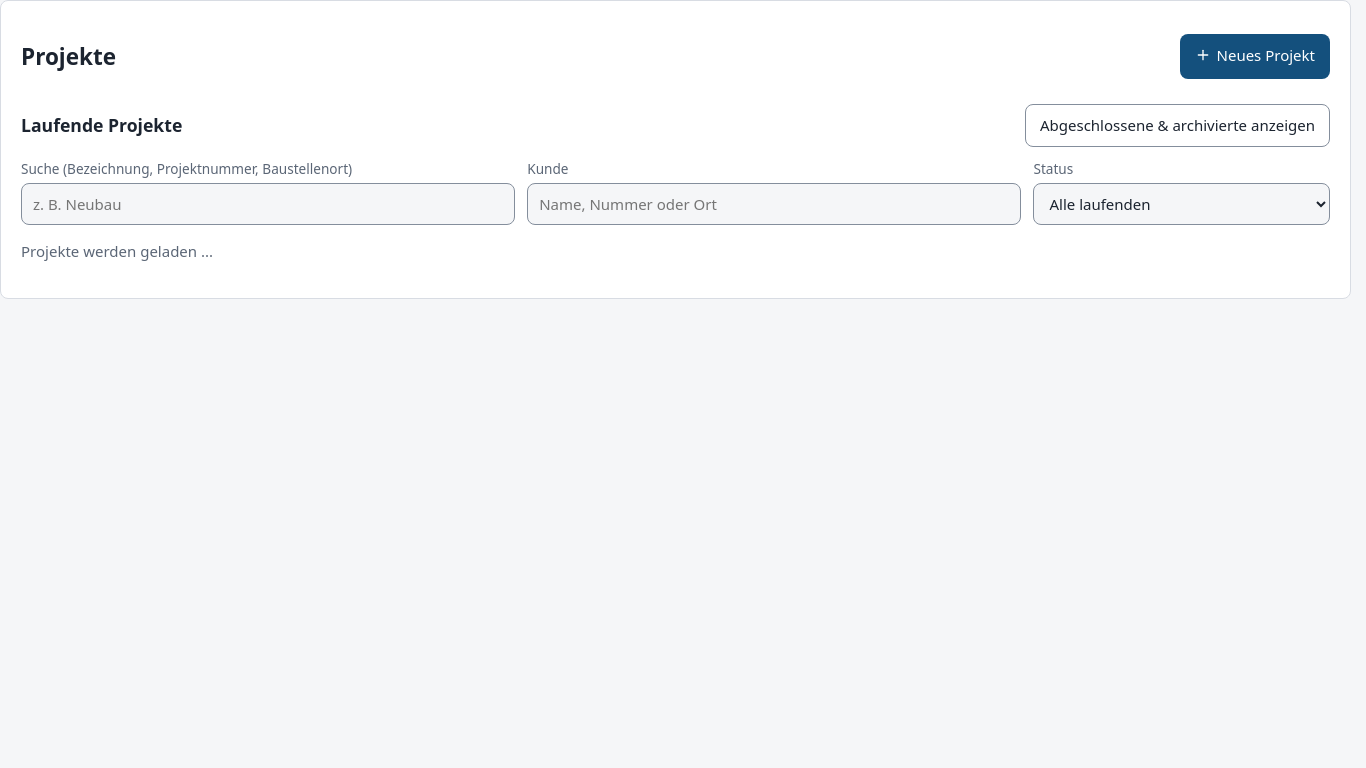
Test: Projektübersicht › bietet im Anlagedialog alle gelisteten Kunden an
Click the button "Neues Projekt" at (1255, 57), box [1180,34,1330,79]
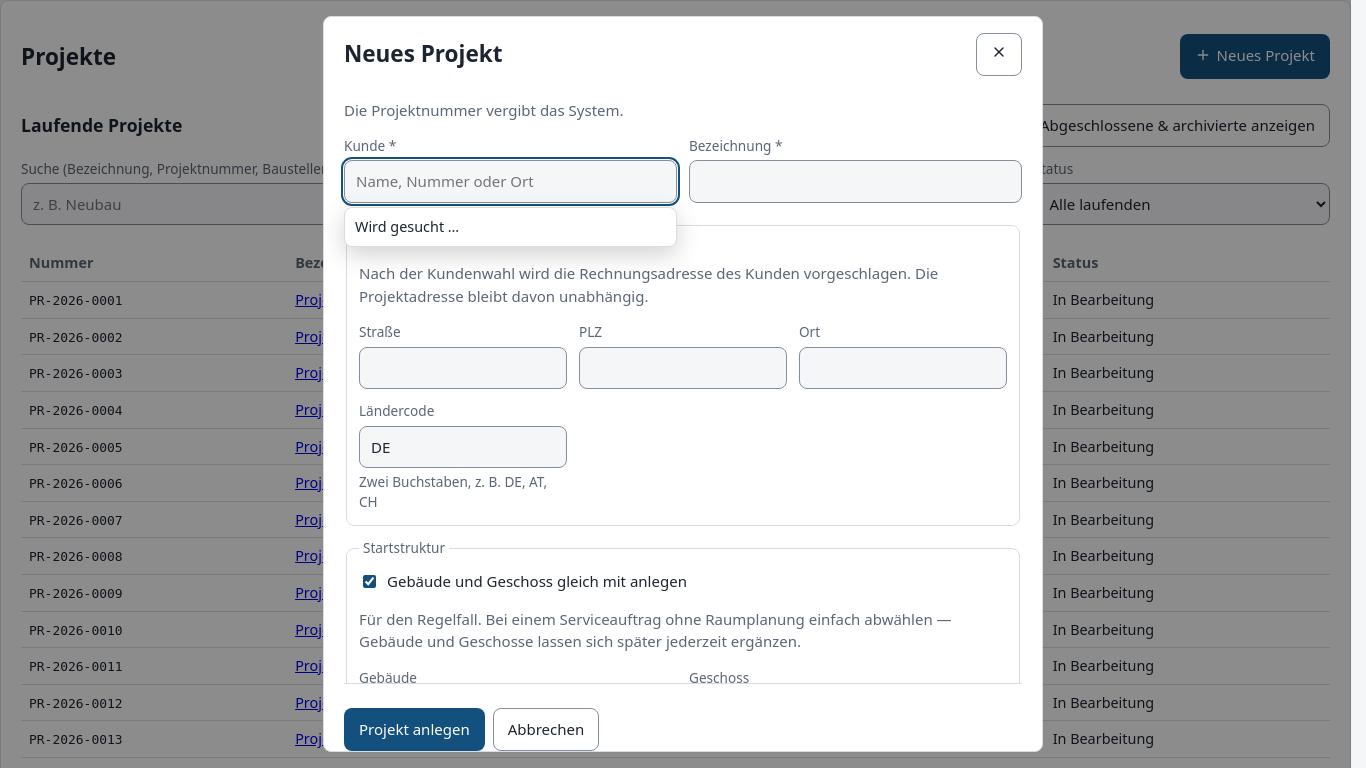
Focus the dropdown labelled "Kunde *" at (510, 182), box [344,160,677,203]
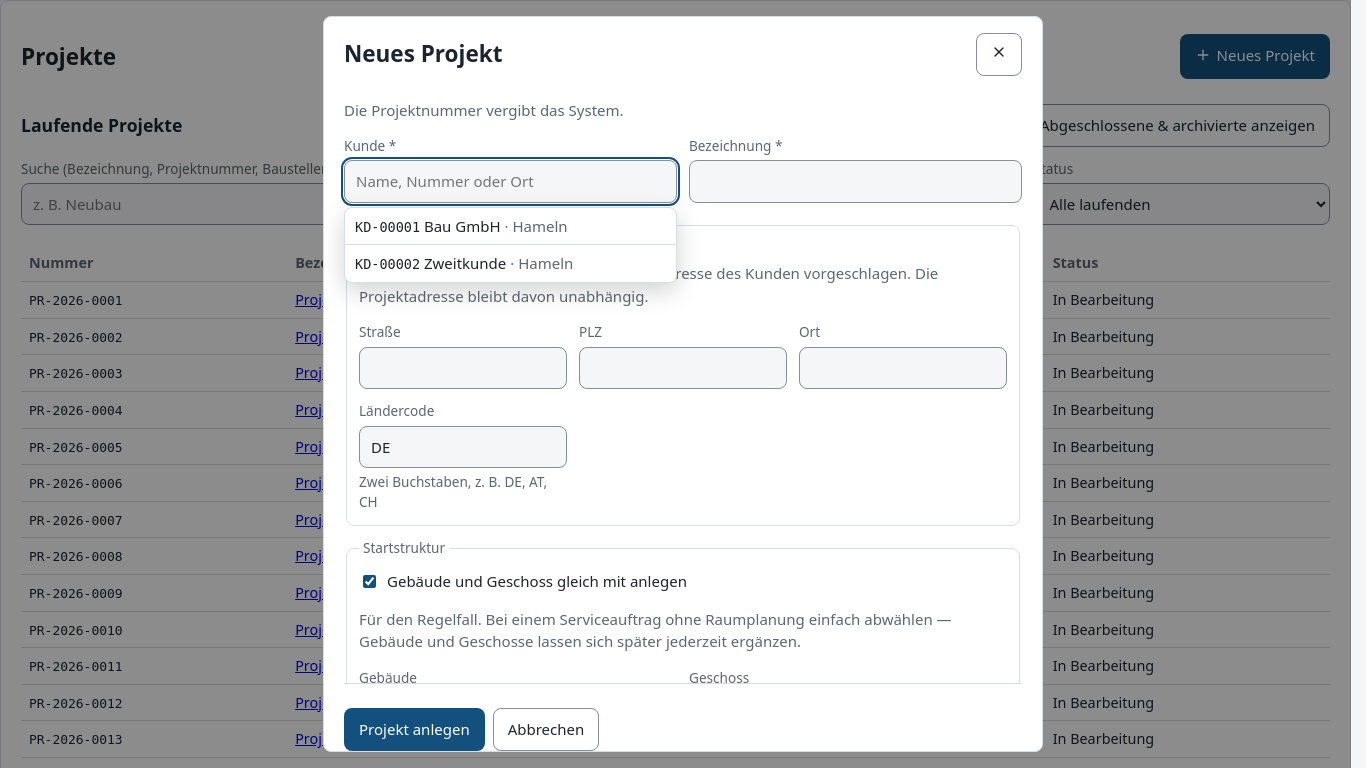
Check: the option "KD-00001 Bau GmbH · Hameln" is shown, box [345,208,676,245]
Check: the option "KD-00002 Zweitkunde · Hameln" is shown, box [355,253,573,273]
